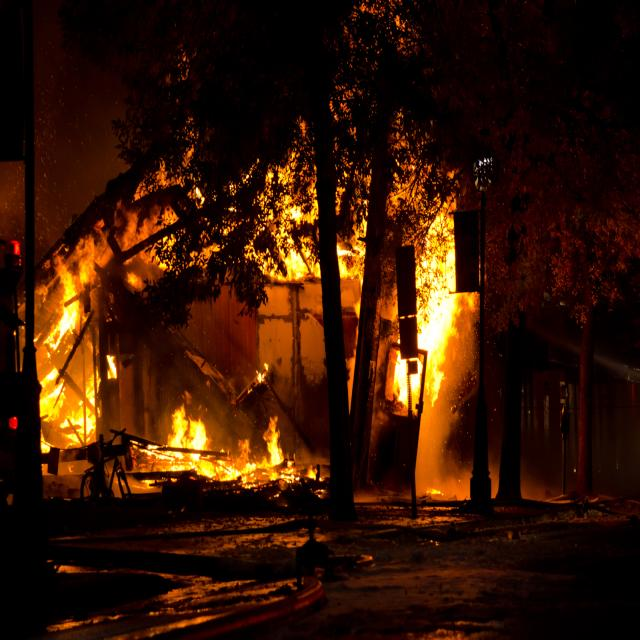fire: (142, 408, 300, 490)
